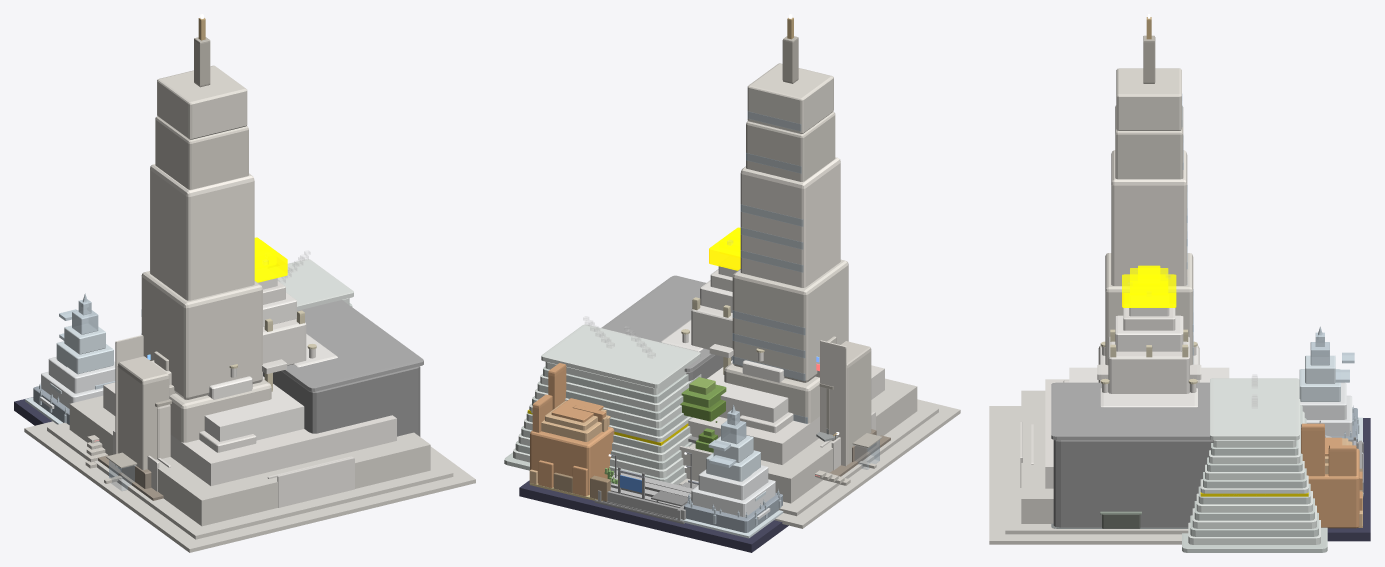
Rendered from world_full.glb.
The picture shows the model from 3 angles, left to right: view 1: azimuth 30°, elevation 25°; view 2: azimuth 150°, elevation 25°; view 3: azimuth 270°, elevation 25°; orthographic projection. The views are drawn at different scales.
Parts seen in each view (by area): view 1: Cube.629, Cube.625, Cube.488, Cube.489, Cube.455, Cube.414, Cube.413, Cube.456, Cube.637, Cube.634, Cube.642, Cube.490 (+16 smaller); view 2: Cube.629, Cube.625, Cube.637, Cube.634, Cube.488, Cube.414, Cube, Cube.391, Cube.407, Cube.455, Cube.123, Cube.489 (+36 smaller); view 3: Cube.413, Cube.629, Cube.414, Cube.455, Cube.637, Cube.502, Cube.634, Cube.488, Cube.391, Cube.456, Cube.407, Cube.123 (+31 smaller).
Boxes of the visible parts, <box> form: Cube.629: <box>150,164,254,300</box>; Cube.625: <box>141,271,262,399</box>; Cube.488: <box>69,395,430,522</box>; Cube.489: <box>103,382,396,485</box>; Cube.455: <box>24,421,475,552</box>; Cube.414: <box>282,300,423,391</box>; Cube.413: <box>263,366,420,436</box>; Cube.456: <box>47,422,453,539</box>; Cube.637: <box>157,65,247,139</box>; Cube.634: <box>155,116,248,189</box>; Cube.642: <box>117,356,169,470</box>; Cube.490: <box>204,376,304,441</box>; Cube.629: <box>740,157,840,287</box>; Cube.625: <box>732,259,848,382</box>; Cube.637: <box>747,63,833,133</box>; Cube.634: <box>746,112,835,181</box>; Cube.488: <box>690,378,917,503</box>; Cube.414: <box>601,275,714,371</box>; Cube: <box>519,480,788,552</box>; Cube.391: <box>584,334,700,388</box>; Cube.407: <box>541,324,657,378</box>; Cube.455: <box>774,399,960,528</box>; Cube.123: <box>530,427,614,495</box>; Cube.489: <box>688,365,884,464</box>; Cube.413: <box>1053,440,1213,527</box>; Cube.629: <box>1111,150,1187,285</box>; Cube.414: <box>1051,382,1210,439</box>; Cube.455: <box>989,406,1181,544</box>; Cube.637: <box>1116,68,1181,130</box>; Cube.502: <box>1108,337,1189,393</box>; Cube.634: <box>1115,105,1183,179</box>; Cube.488: <box>1021,390,1053,522</box>; Cube.391: <box>1210,378,1299,414</box>; Cube.456: <box>1005,409,1188,534</box>; Cube.407: <box>1210,399,1299,440</box>; Cube.123: <box>1308,448,1359,528</box>.
Bounding box in the file's own units: 42.6 × 61.85 × 47.7.
